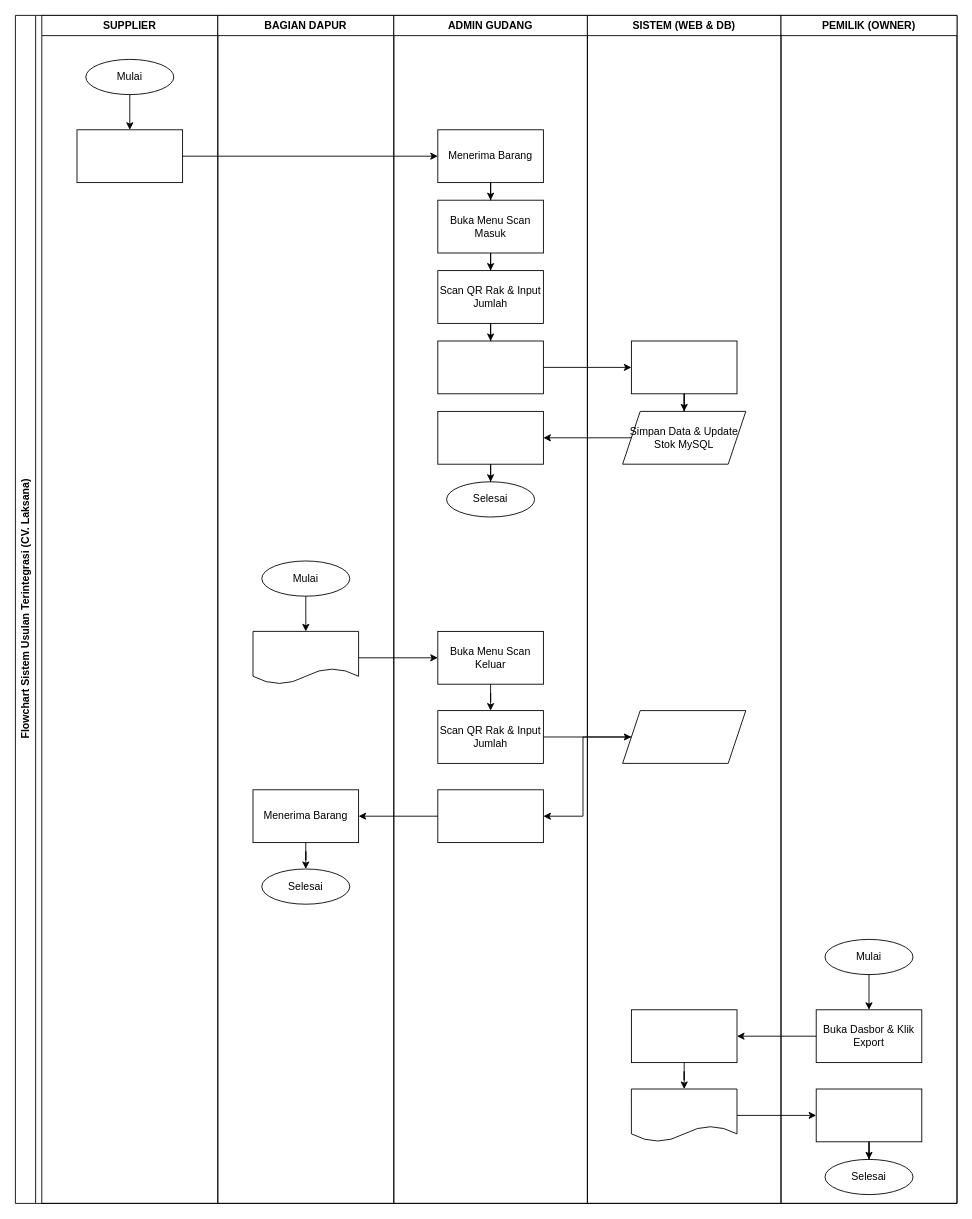
Some shapes in this 972 by 1219 pixel diagram are drawn without their labels. Each missing label, with the centre of its shape:
Buat Catatan Permintaan: the point at 305,657
Foto Nota Pembelian: the point at 490,367
Konversi Foto ke Base64: the point at 684,367
Laporan Excel (.xlsx): the point at 684,1115
Potong Stok MySQL: the point at 684,736
Serahkan Barang ke Dapur: the point at 490,816
Siapkan Barang & Nota Pembelian: the point at 129,156
Simpan Barang ke Rak: the point at 490,437
Tarik Data DB & Generate Laporan: the point at 684,1036
Unduh File Laporan: the point at 868,1115
